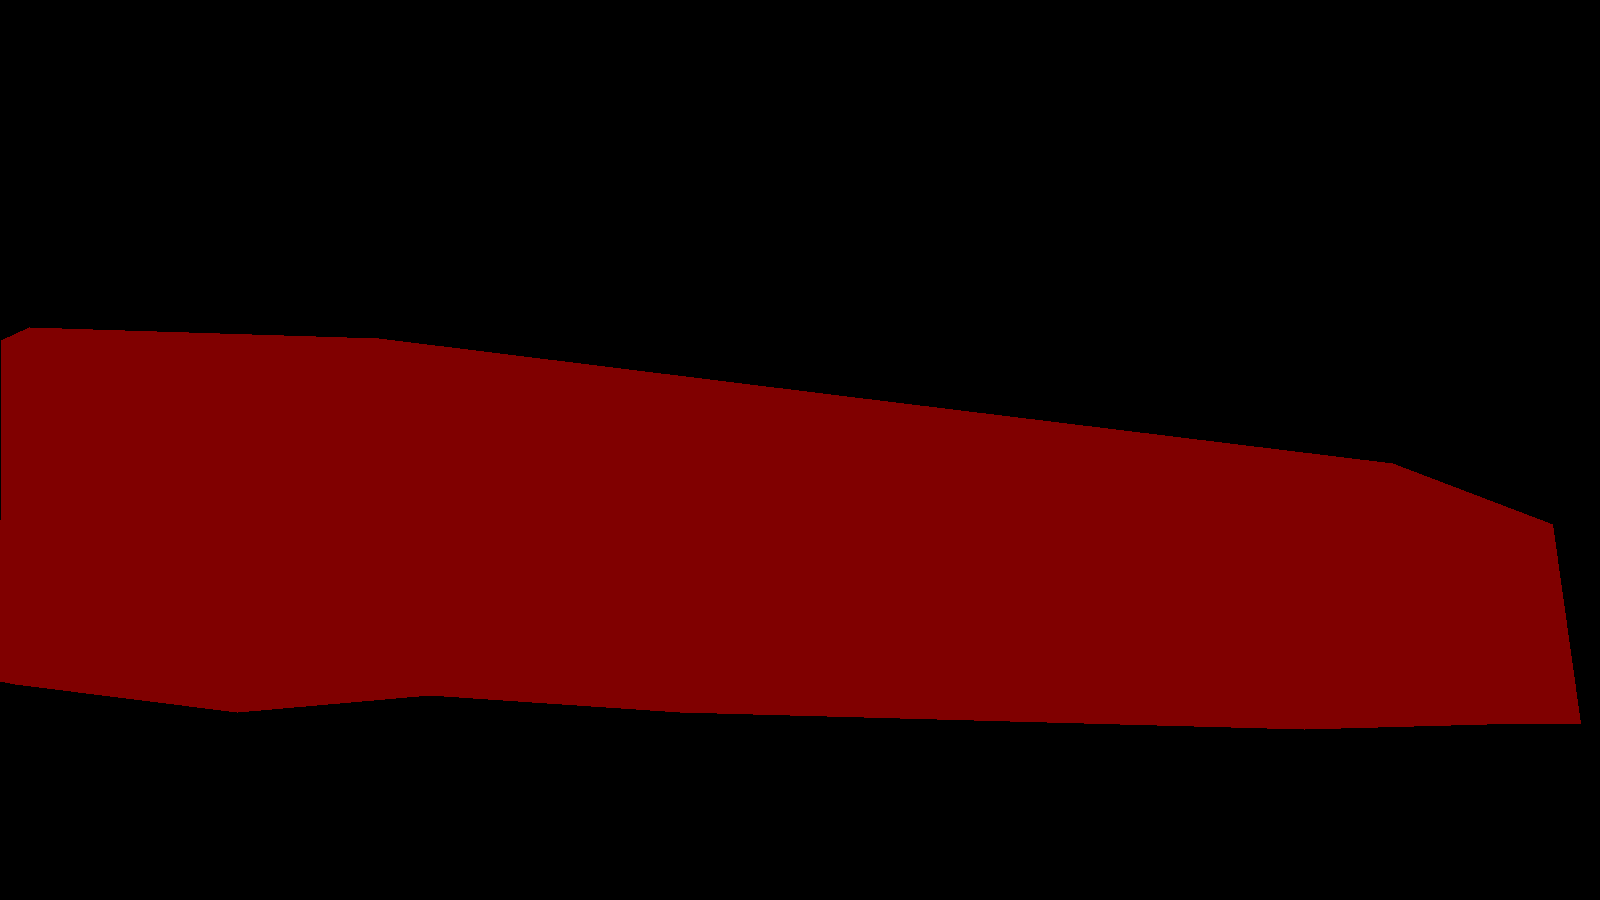fire: (0, 327, 1580, 729)
